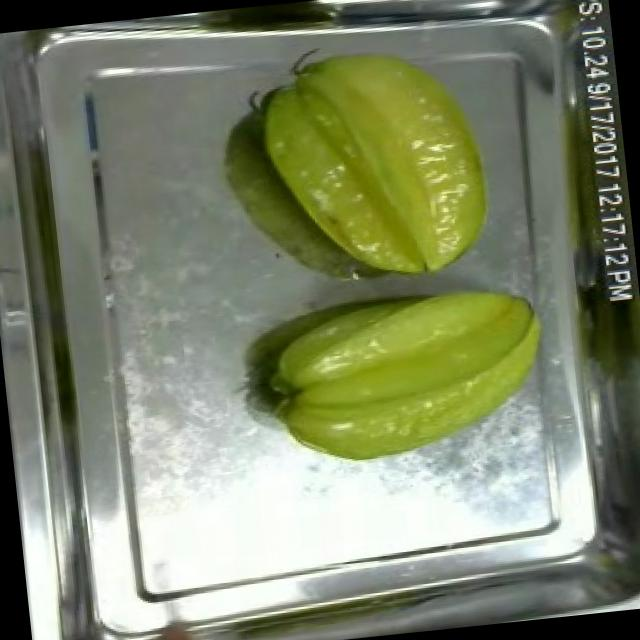fruit: (240, 25, 508, 304), (248, 267, 568, 478)
